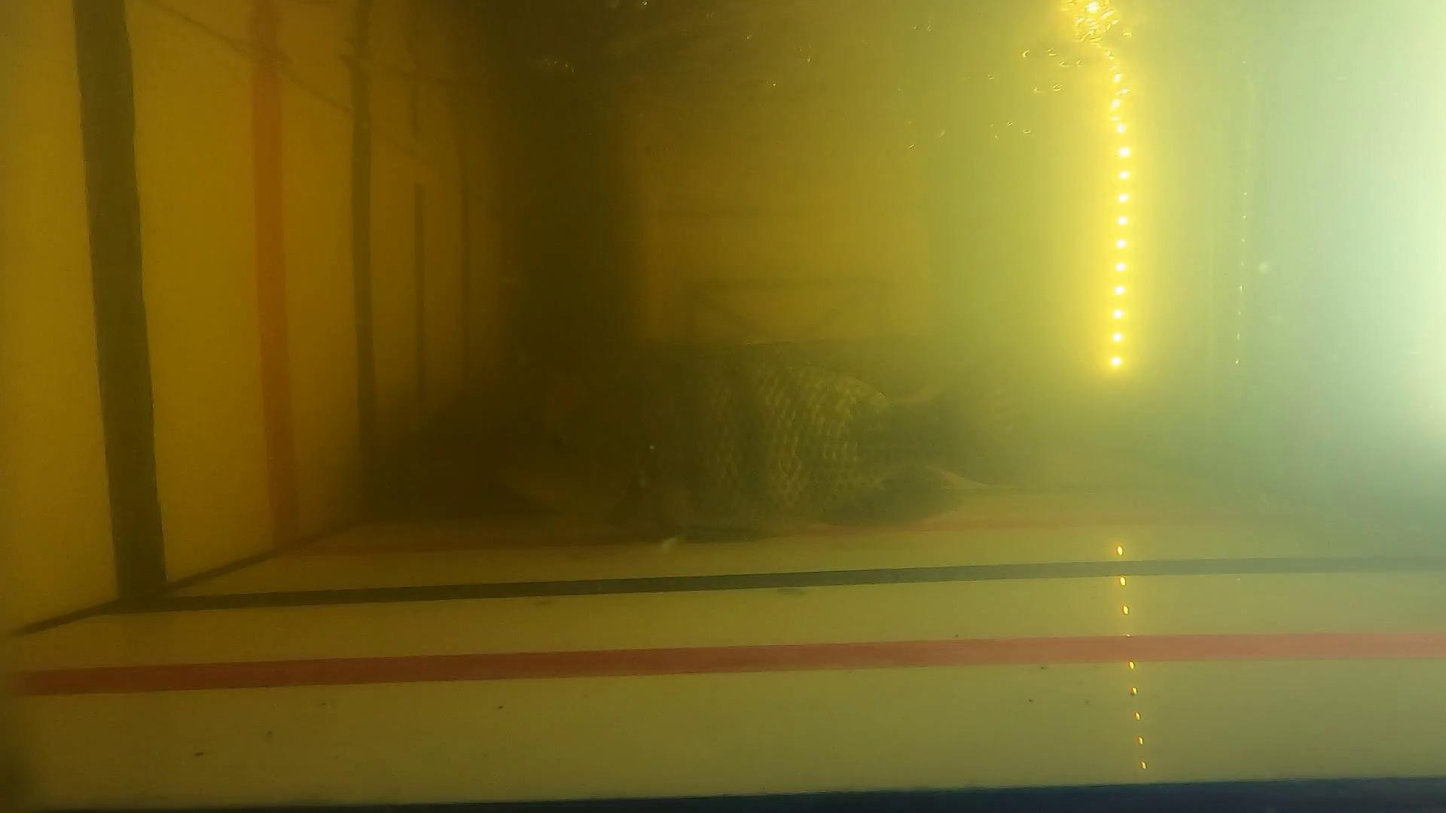Tilapia: (478, 341, 956, 539)
